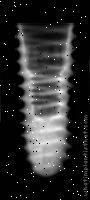Hiossen: (15, 24, 75, 180)
